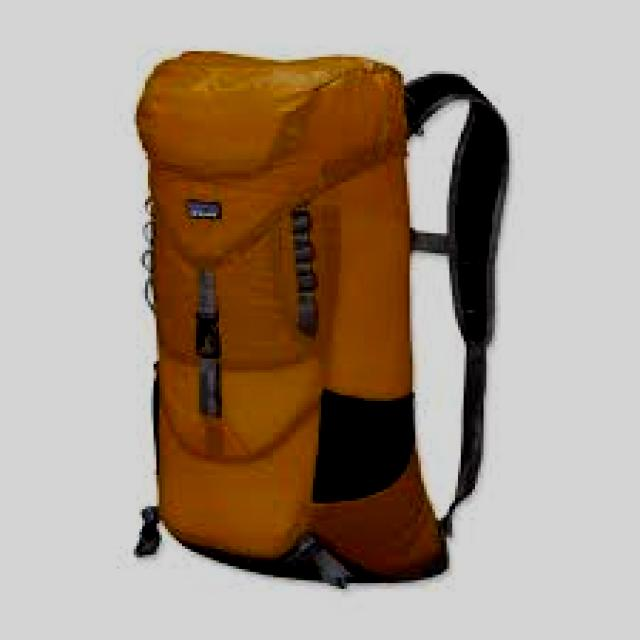backpack: (132, 49, 510, 587)
